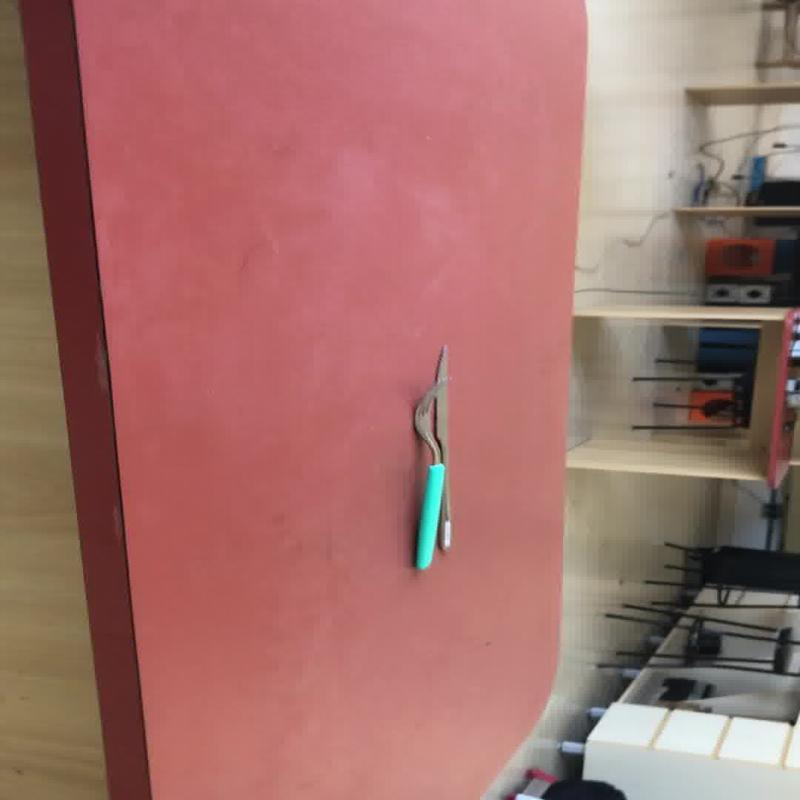fork: (410, 344, 450, 570)
knife: (410, 344, 451, 570)
